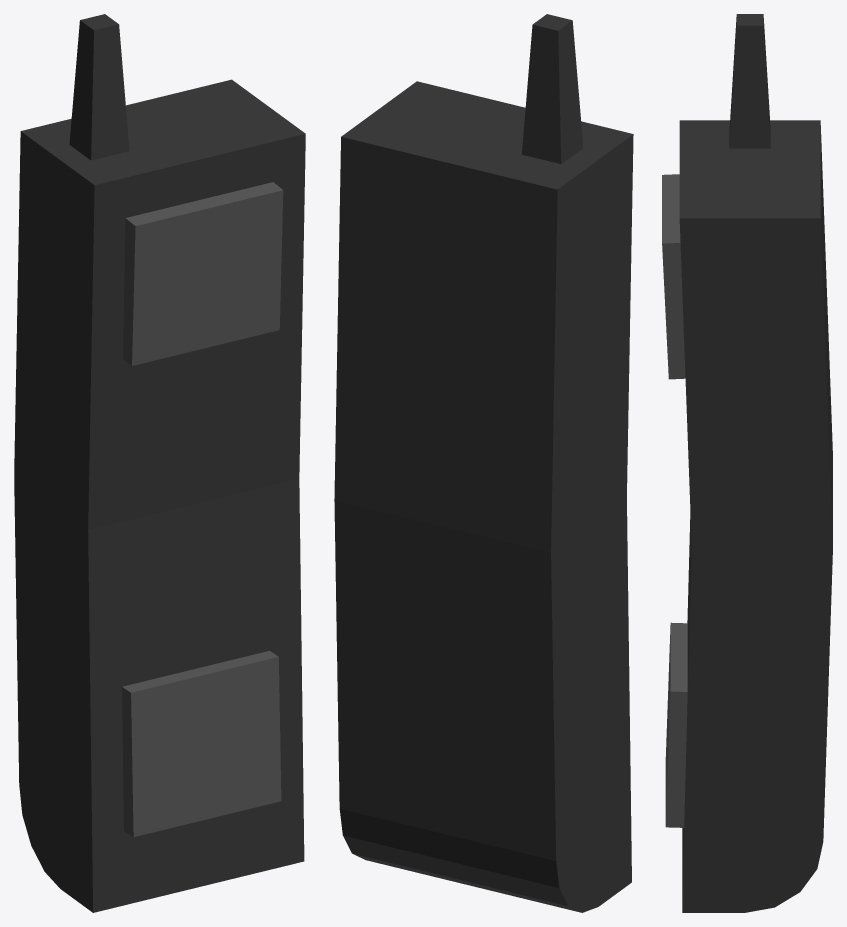
Rendered from Phone_B.obj.
The picture shows the model from 3 angles, left to right: view 1: azimuth 30°, elevation 25°; view 2: azimuth 150°, elevation 25°; view 3: azimuth 270°, elevation 25°; orthographic projection. The views are drawn at different scales.
Visible parts, largest first — view 1: Phone_B; view 2: Phone_B; view 3: Phone_B.
Part boxes in pixels (x1,y1,x2,y2): Phone_B: [14, 14, 305, 912]; Phone_B: [334, 14, 633, 912]; Phone_B: [662, 14, 832, 912].
Bounding box in the file's own units: 0.078 × 0.3014 × 0.0573.
